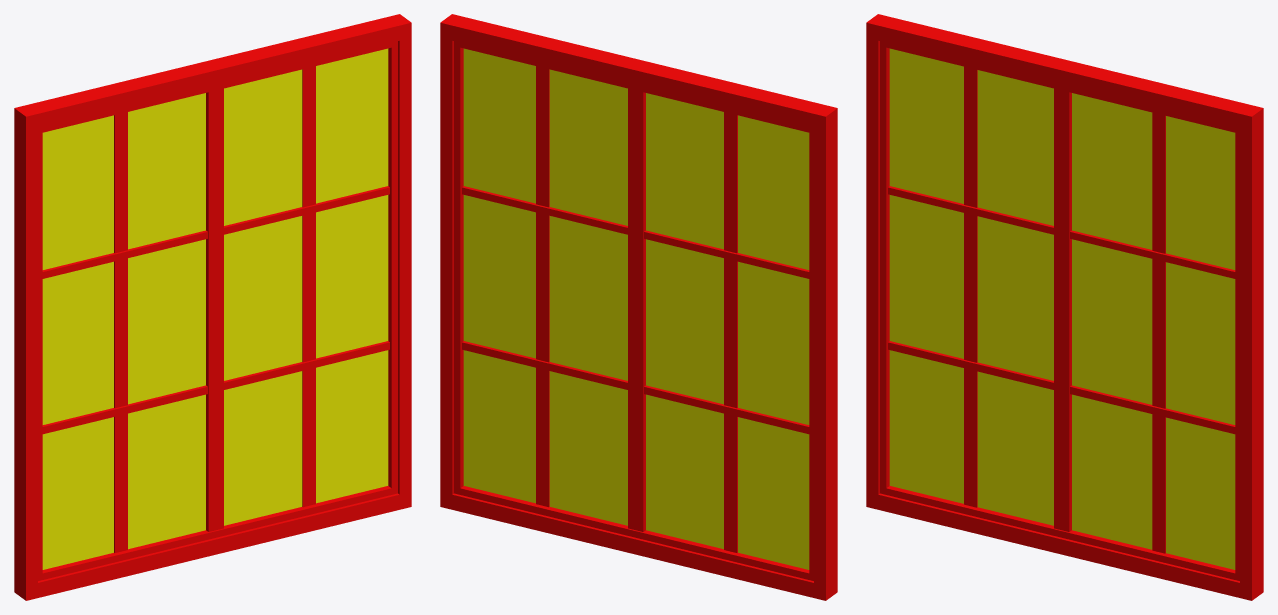
The model's file is window_fixed_60x72.glb.
3 renders of one model, left to right at view 1: azimuth 30°, elevation 25°; view 2: azimuth 150°, elevation 25°; view 3: azimuth 330°, elevation 25°, orthographic.
Visible parts, largest first — view 1: window_fixed_60x72; view 2: window_fixed_60x72; view 3: window_fixed_60x72.
Part boxes in pixels (x1,y1,x2,y2): window_fixed_60x72: (14,14,411,600); window_fixed_60x72: (440,14,837,600); window_fixed_60x72: (866,14,1263,600).
Size of the model in its own units: 1.52 by 1.83 by 0.0812.
